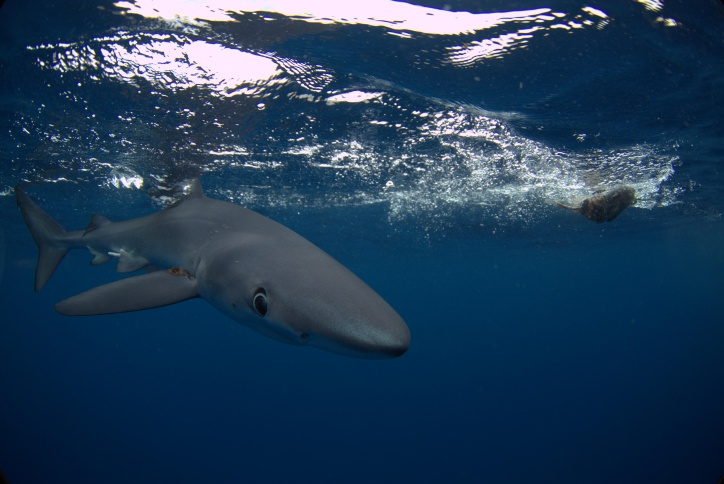Azul: (1, 155, 470, 395)
